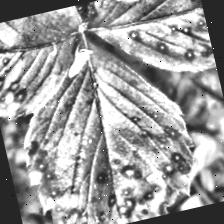Leaf Spot: (0, 17, 209, 224), (83, 0, 217, 95), (0, 4, 100, 123)
